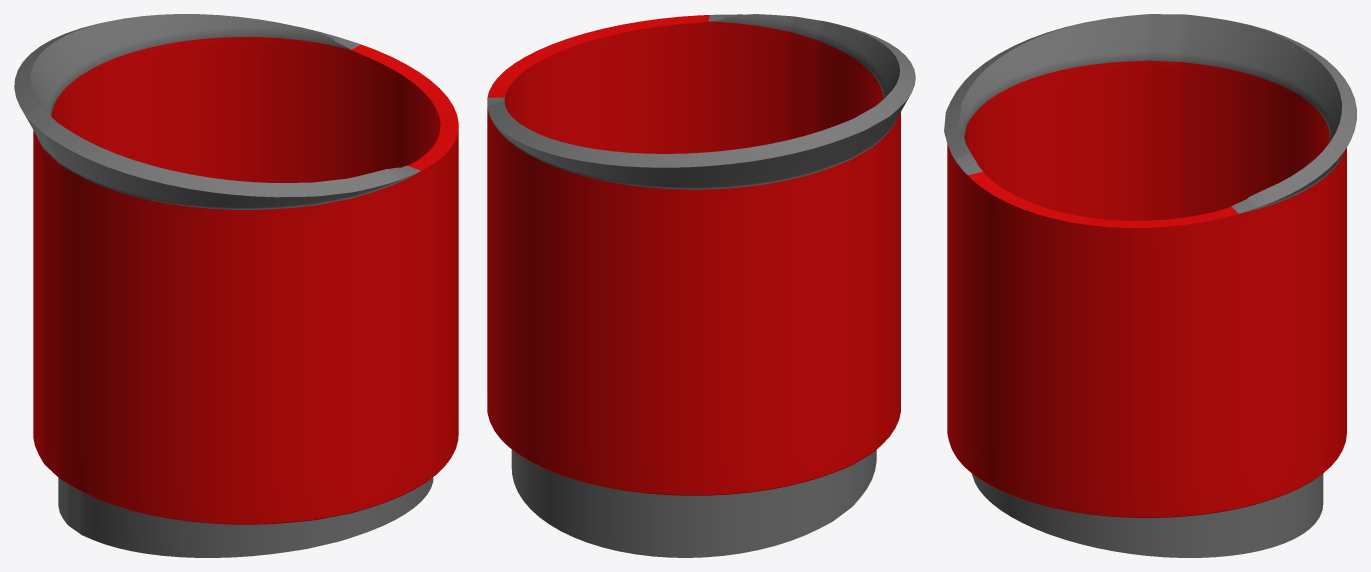
The model's file is DebrisSmallMetalBroken06.fbx.
The picture shows the model from 3 angles, left to right: view 1: azimuth 30°, elevation 25°; view 2: azimuth 150°, elevation 25°; view 3: azimuth 270°, elevation 25°; orthographic projection. The views are drawn at different scales.
Parts seen in each view (by area): view 1: polySurface161; view 2: polySurface161; view 3: polySurface161.
Boxes of the visible parts, left/top/right/bottom form: polySurface161: left=14, top=14, right=458, bottom=557; polySurface161: left=487, top=14, right=915, bottom=557; polySurface161: left=944, top=14, right=1356, bottom=557.
Bounding box in the file's own units: 24.55 × 26.34 × 24.31.
